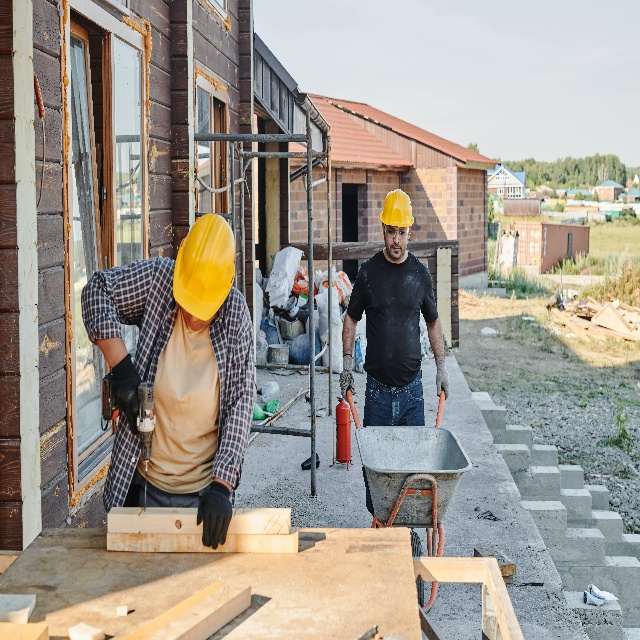Gafas: (384, 224, 409, 239)
Guantes: (111, 354, 143, 435), (196, 480, 233, 549), (340, 355, 356, 403), (435, 358, 450, 400)
